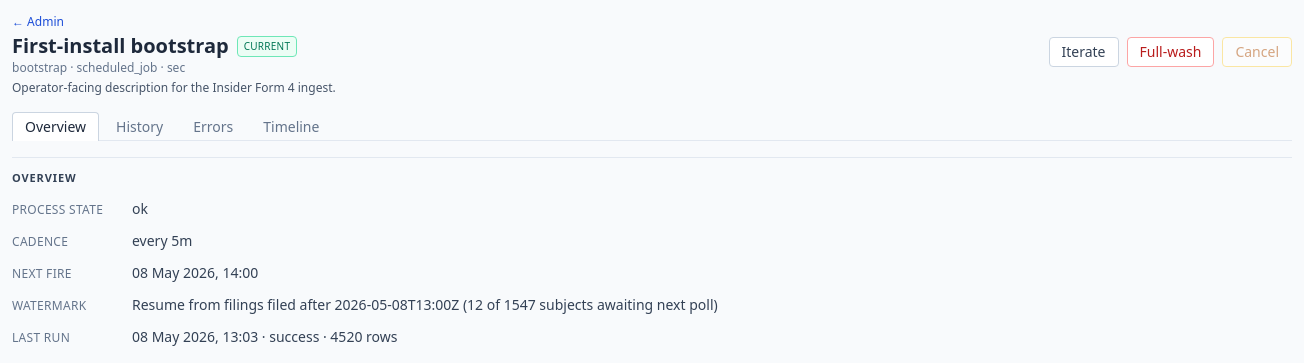
Test: ProcessDetailPage — Timeline tab (bootstrap) › renders 'no bootstrap run yet' when /timeline returns null run
The image size is (1304, 363).
Click the tab "Timeline" at (291, 126), box [250,112,332,141]
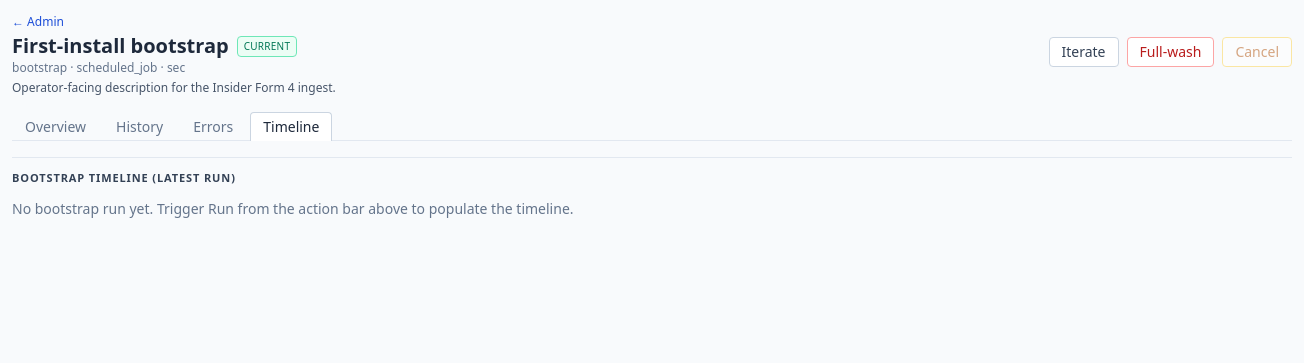
expect the text "No bootstrap run yet" is shown: met, box [12,198,574,218]
